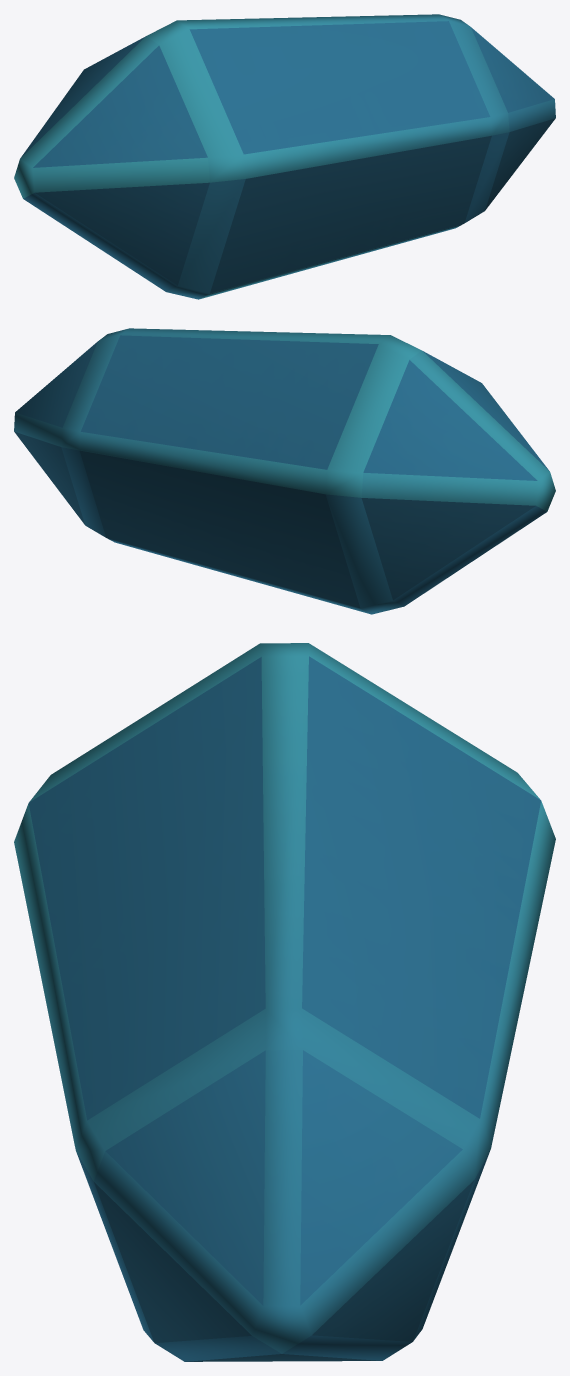
Rendered from christal_saphire_6.fbx.
3 renders of one model, top to bottom at view 1: azimuth 30°, elevation 25°; view 2: azimuth 150°, elevation 25°; view 3: azimuth 270°, elevation 25°, orthographic. The views are drawn at different scales.
Parts seen in each view (by area): view 1: christal_saphire_6; view 2: christal_saphire_6; view 3: christal_saphire_6.
Part boxes in pixels (x1,y1,x2,y2): christal_saphire_6: (14,14,555,299); christal_saphire_6: (14,328,555,614); christal_saphire_6: (14,643,555,1361).
Bounding box in the file's own units: 67.5 × 29.59 × 31.25.
Materials: 1 (1 with a texture image).
